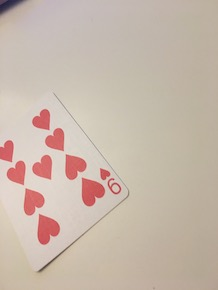NineOfHearts: (1, 88, 132, 274)
